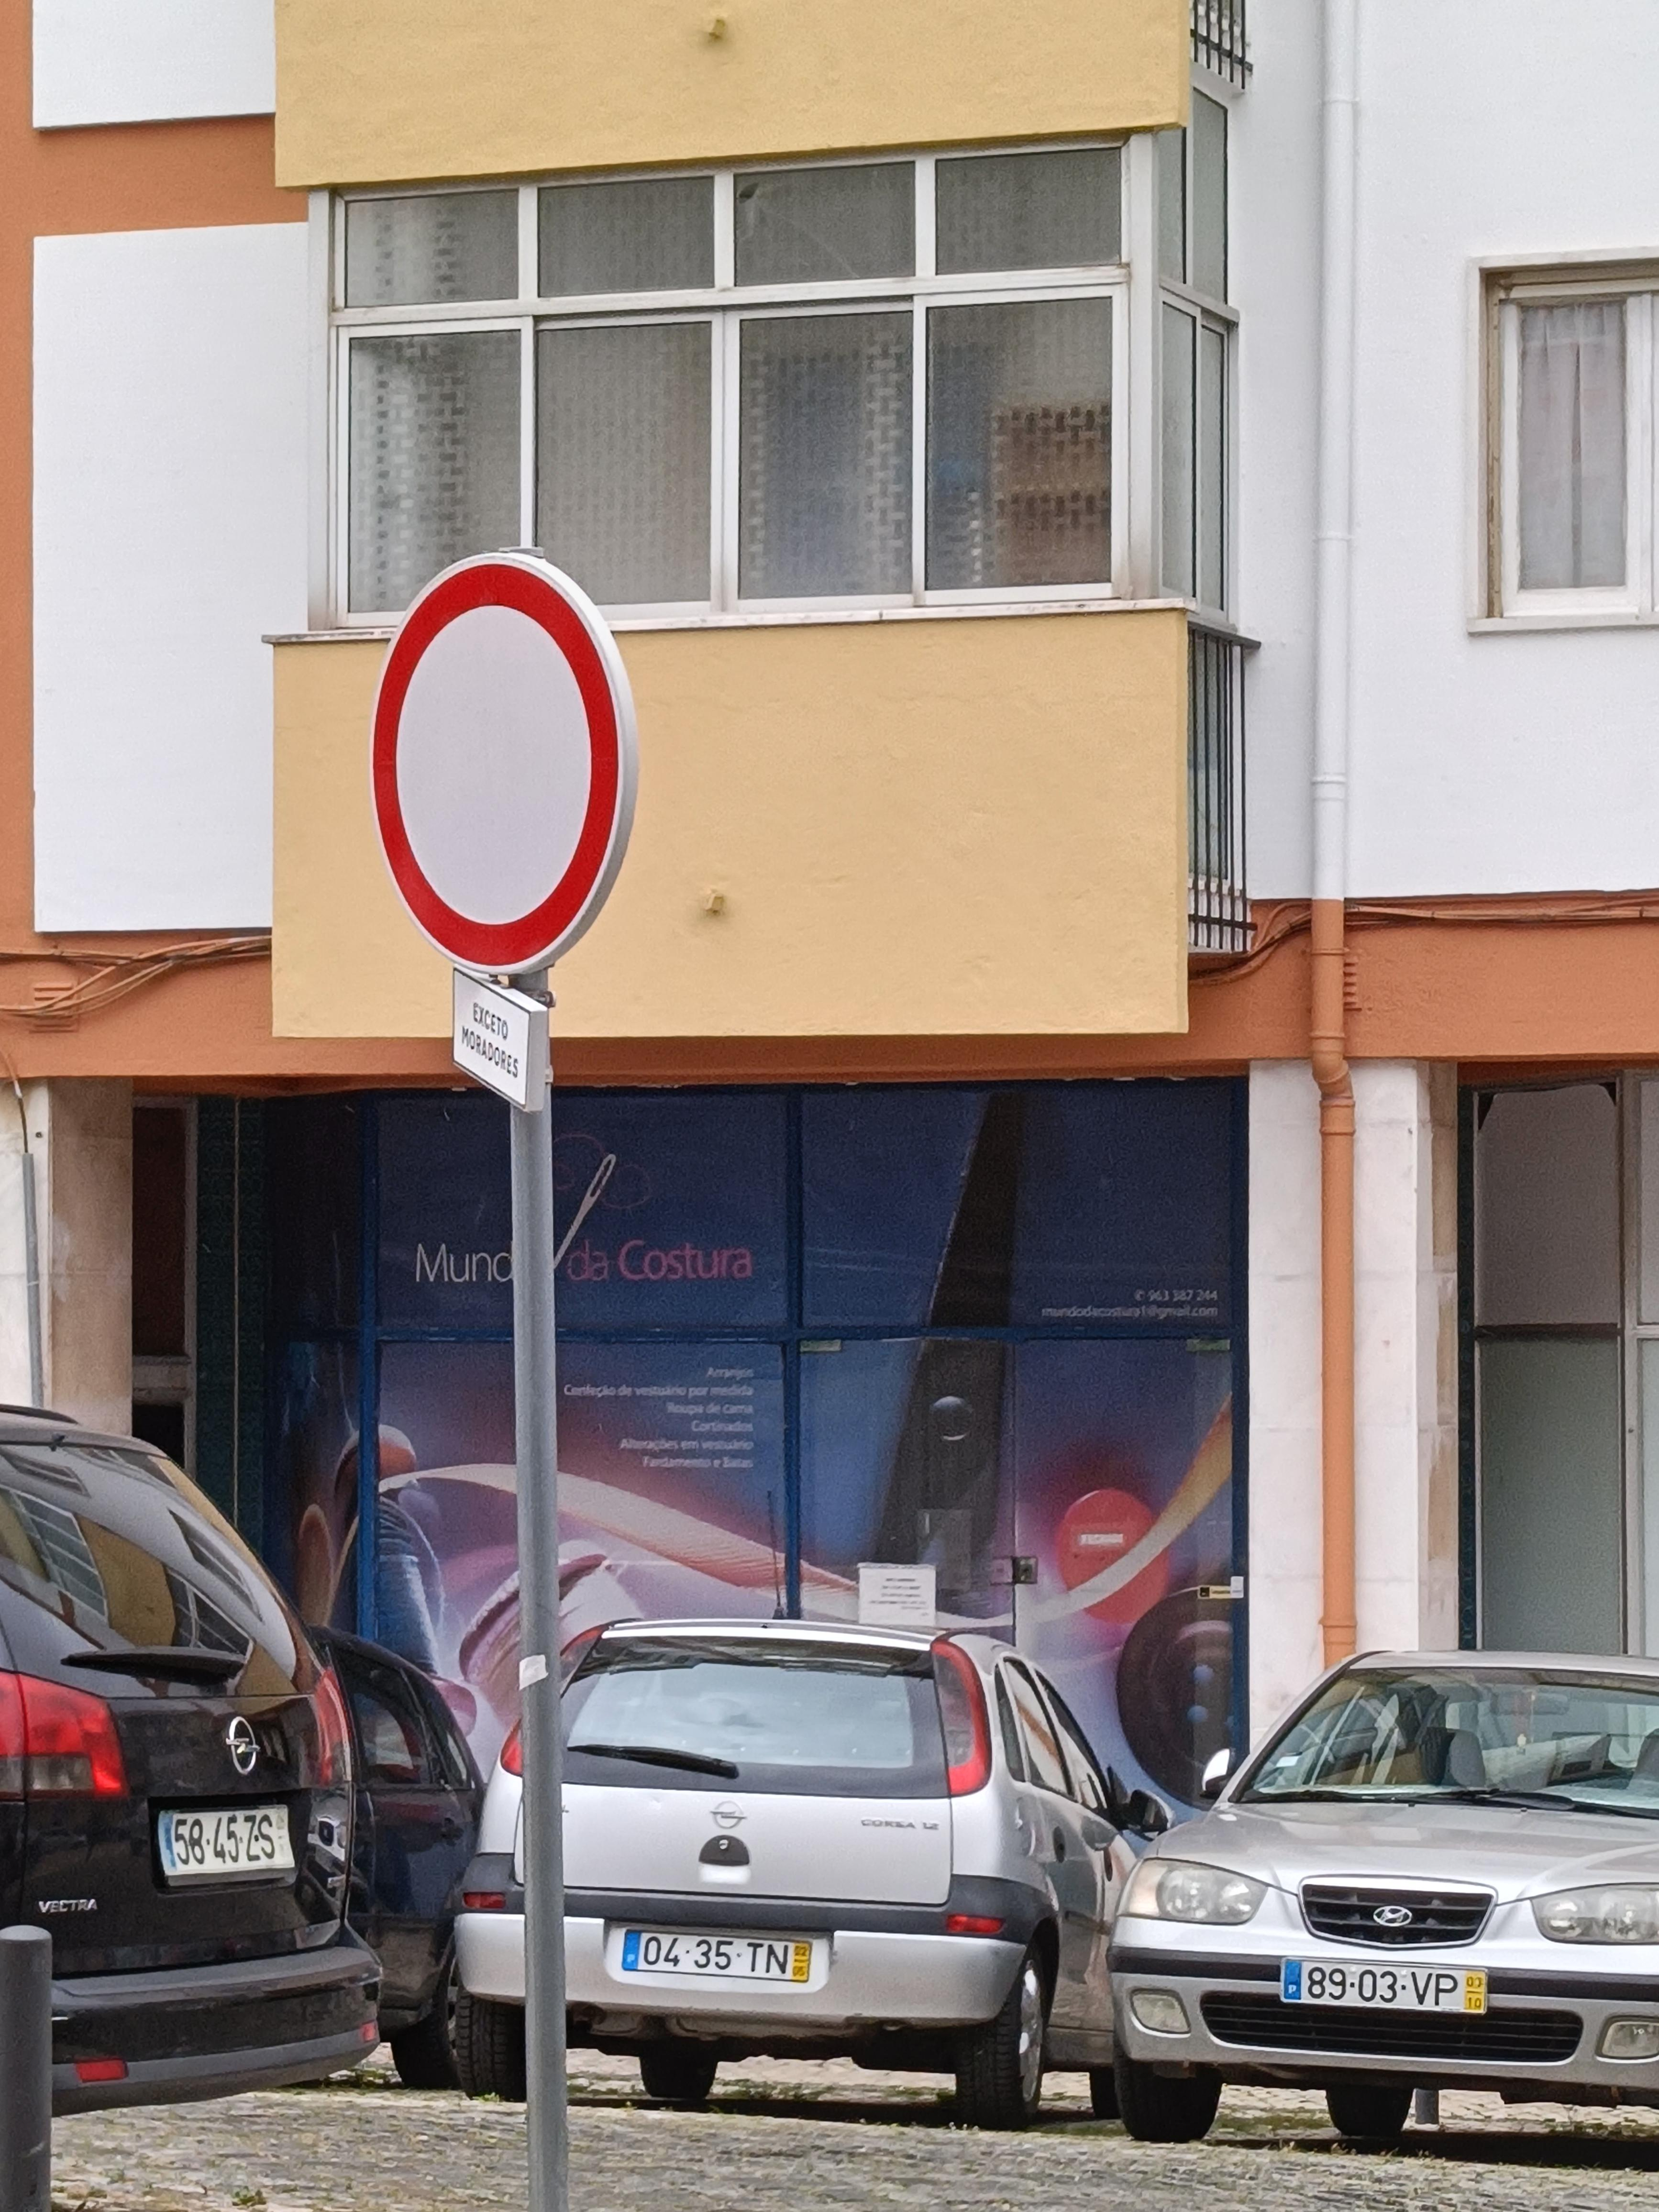transito proibido a peoes: (326, 556, 631, 961)
